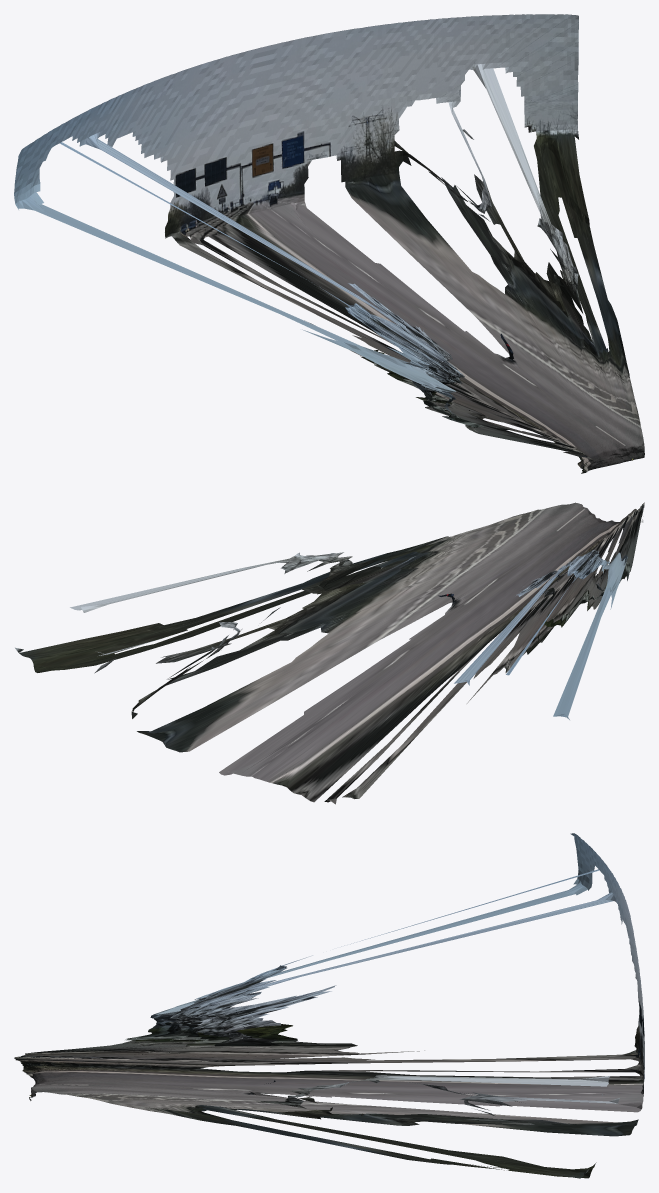
3 renders of one model, top to bottom at view 1: azimuth 30°, elevation 25°; view 2: azimuth 150°, elevation 25°; view 3: azimuth 270°, elevation 25°, orthographic. The views are drawn at different scales.
Visible parts, largest first — view 1: defaultobject; view 2: defaultobject; view 3: defaultobject.
Boxes of the visible parts, x1,y1,x2,y2 form: defaultobject: (14,14,644,473); defaultobject: (15,502,644,804); defaultobject: (14,833,644,1178).
Bounding box in the file's own units: 40.97 × 12.46 × 45.37.
Materials: 1 (1 with a texture image).
